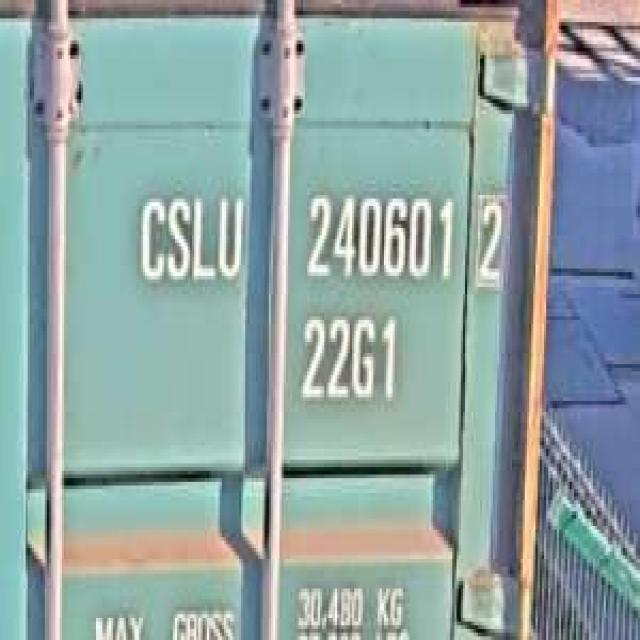dv: (471, 184, 512, 287)
owner: (130, 180, 248, 294)
serial: (298, 180, 456, 294)
size: (294, 305, 401, 412)
